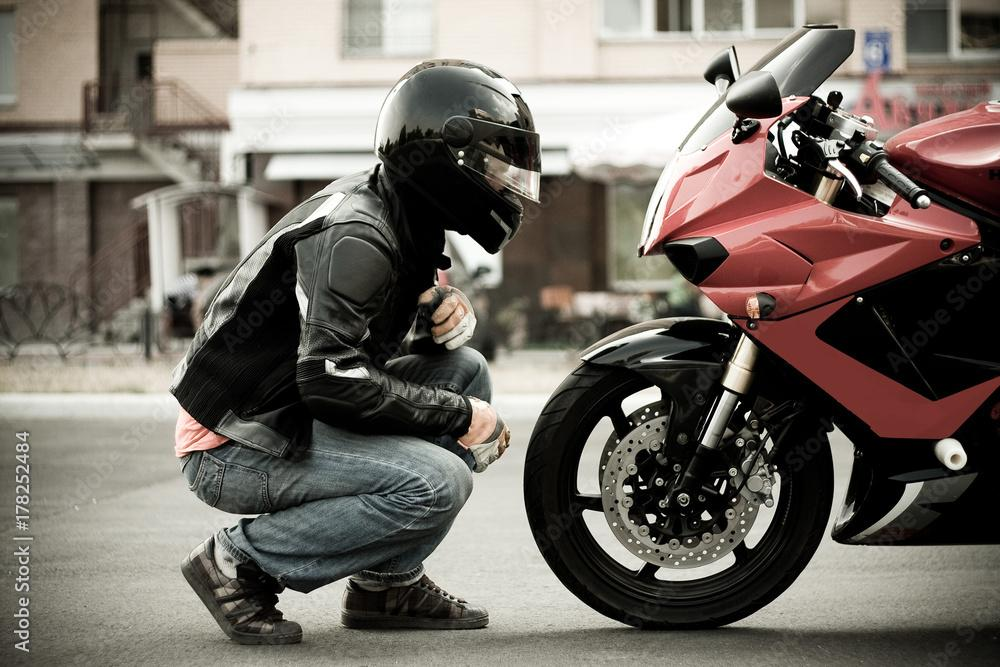helmet: (372, 56, 543, 255)
